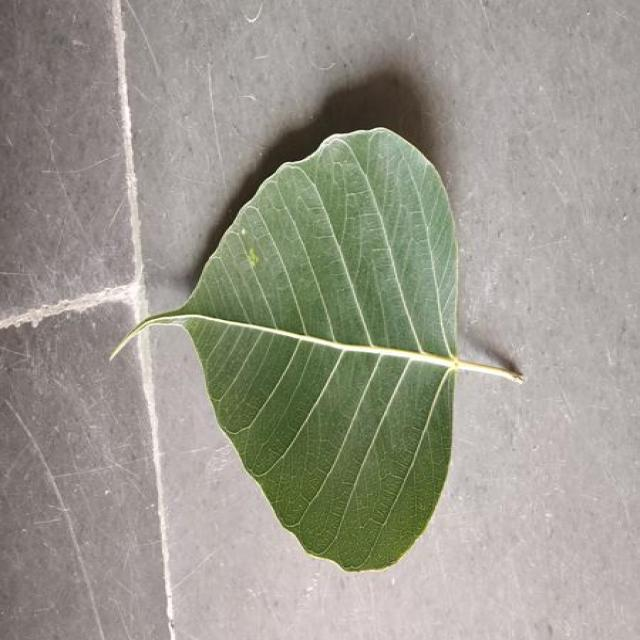arali: (113, 128, 522, 571)
